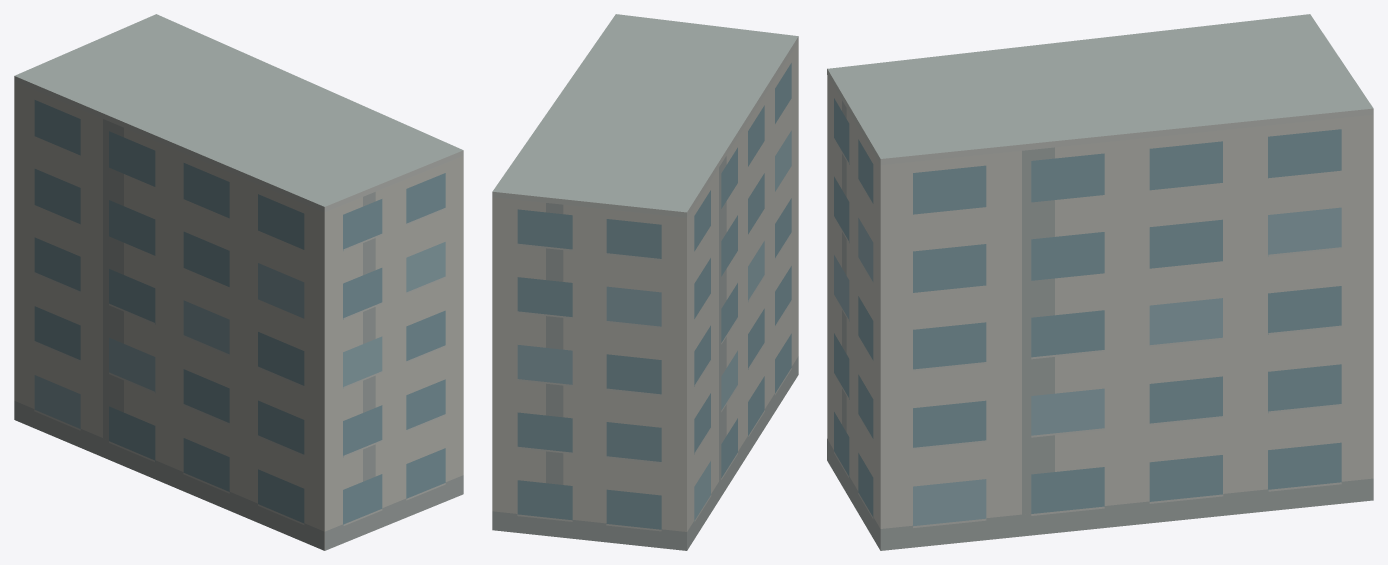
File: residential-079cadd5-6192-4ce4-bdd0-82dc3472c9f4.glb
3 views of the same model, side by side, from view 1: azimuth 30°, elevation 25°; view 2: azimuth 150°, elevation 25°; view 3: azimuth 270°, elevation 25° (orthographic). The views are drawn at different scales.
Visible parts, largest first — view 1: residential-079cadd5-6192-4ce4-bdd0-82dc3472c9f4.tmp; view 2: residential-079cadd5-6192-4ce4-bdd0-82dc3472c9f4.tmp; view 3: residential-079cadd5-6192-4ce4-bdd0-82dc3472c9f4.tmp.
Part boxes in pixels (box(x1,y1,x2,y2)): residential-079cadd5-6192-4ce4-bdd0-82dc3472c9f4.tmp: box(14, 14, 463, 550); residential-079cadd5-6192-4ce4-bdd0-82dc3472c9f4.tmp: box(492, 14, 798, 550); residential-079cadd5-6192-4ce4-bdd0-82dc3472c9f4.tmp: box(827, 14, 1373, 550).
Bounding box in the file's own units: 12.11 × 15.25 × 19.28.
